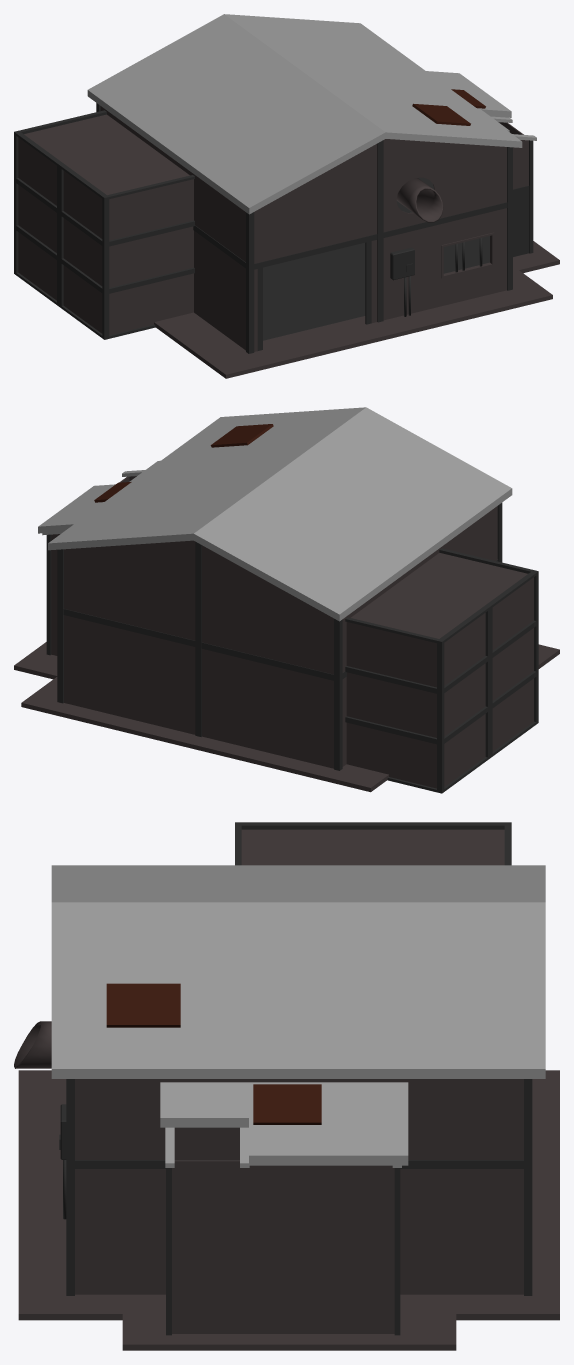
Rendered from Mesh_DigimonBridge_House.FBX.
The picture shows the model from 3 angles, top to bottom: view 1: azimuth 30°, elevation 25°; view 2: azimuth 150°, elevation 25°; view 3: azimuth 270°, elevation 25°; orthographic projection. The views are drawn at different scales.
Parts seen in each view (by area): view 1: Mesh_DigimonBridge_House; view 2: Mesh_DigimonBridge_House; view 3: Mesh_DigimonBridge_House.
Part boxes in pixels (box(x1,y1,x2,y2)): Mesh_DigimonBridge_House: box(14, 14, 559, 378); Mesh_DigimonBridge_House: box(14, 407, 559, 793); Mesh_DigimonBridge_House: box(14, 822, 559, 1350).
Size of what is drawn, in the model's own units: 1001 by 739 by 453.
